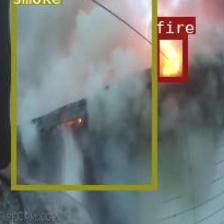fire: (154, 34, 186, 81)
smoke: (10, 0, 155, 189)
